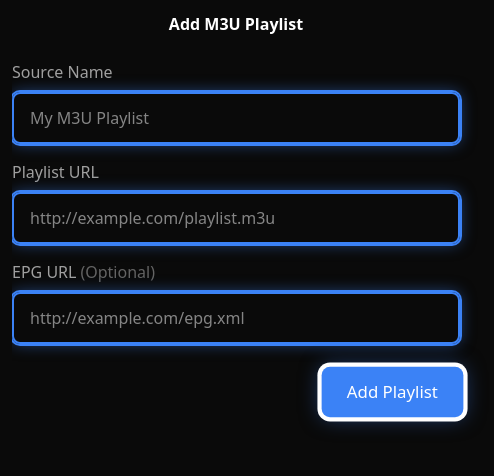
it: M3UUrlForm › validation › shows error when playlist URL is empty
In the field with test id "m3u-name-input": (236, 118) [12,92,460,144], type "Test"
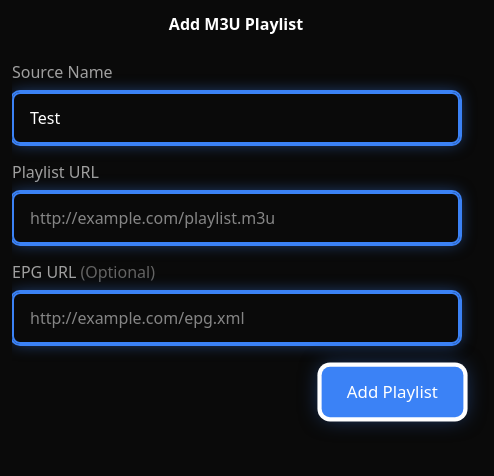
Click the button "Add Playlist": (393, 392) [322,367,463,417]
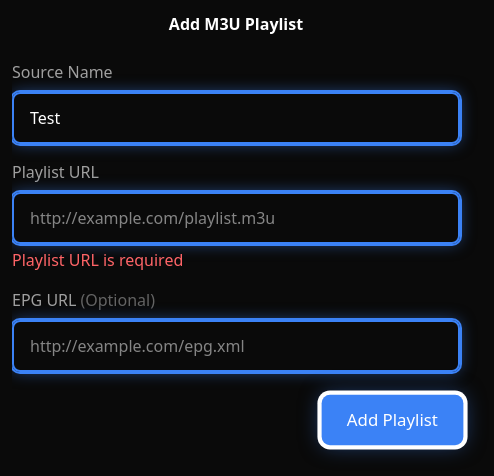
Check: the text "Playlist URL is required" is shown, box [12,249,183,271]
